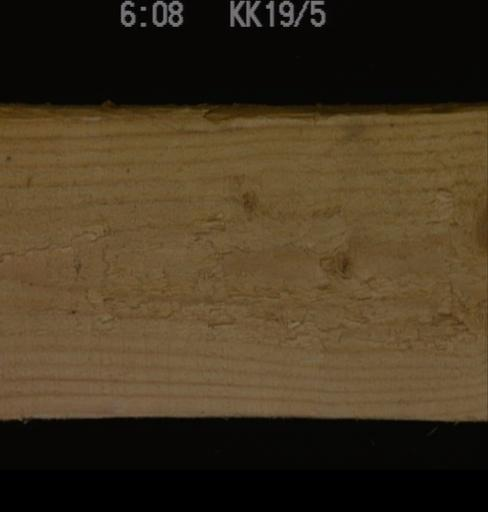small_knot: (221, 169, 263, 222), (314, 243, 360, 280)
sound_knot: (460, 179, 486, 260)
wave: (0, 103, 486, 127)
